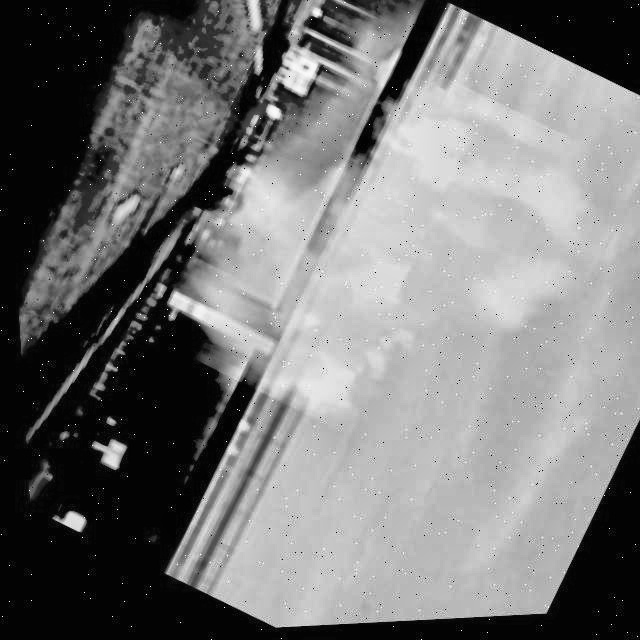Smoke: (116, 0, 637, 503)
